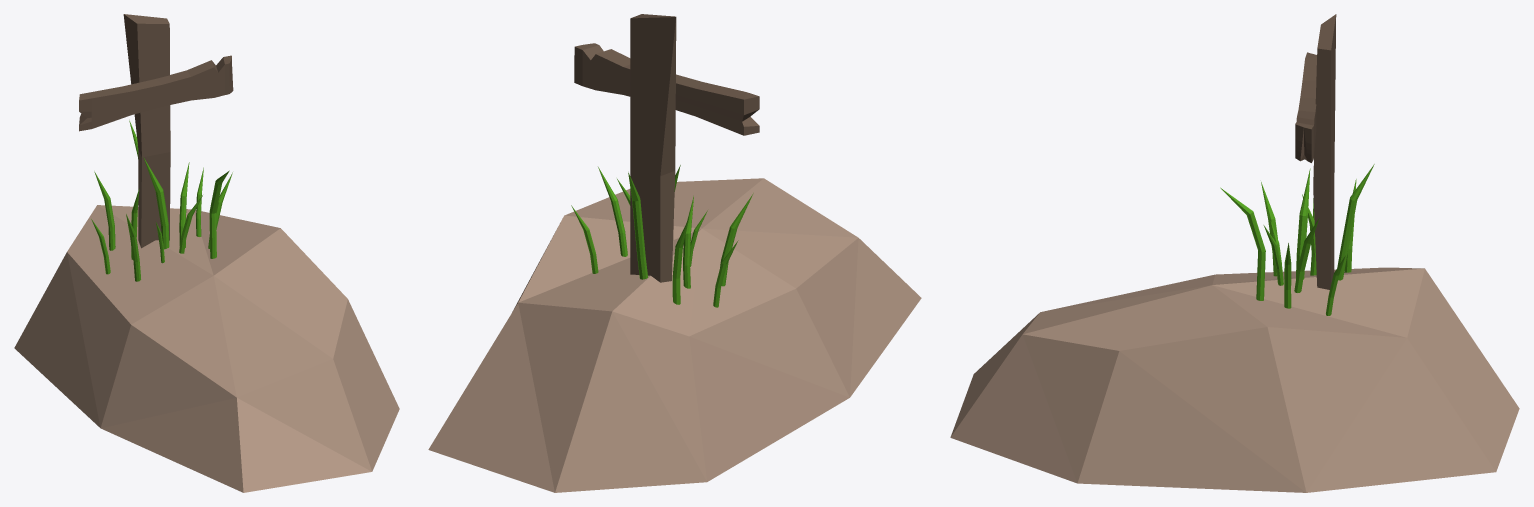
The model's file is Isl_1_Grave_1.fbx.
The picture shows the model from 3 angles, left to right: view 1: azimuth 30°, elevation 25°; view 2: azimuth 150°, elevation 25°; view 3: azimuth 270°, elevation 25°; orthographic projection. The views are drawn at different scales.
Parts seen in each view (by area): view 1: Isl_1_Grave_1; view 2: Isl_1_Grave_1; view 3: Isl_1_Grave_1.
Part boxes in pixels (x1=…): Isl_1_Grave_1: x1=14, y1=14, x2=399, y2=492; Isl_1_Grave_1: x1=428, y1=14, x2=921, y2=492; Isl_1_Grave_1: x1=950, y1=14, x2=1519, y2=492.
Bounding box in the file's own units: 152 × 260 × 194.
Materials: 1 (1 with a texture image).
